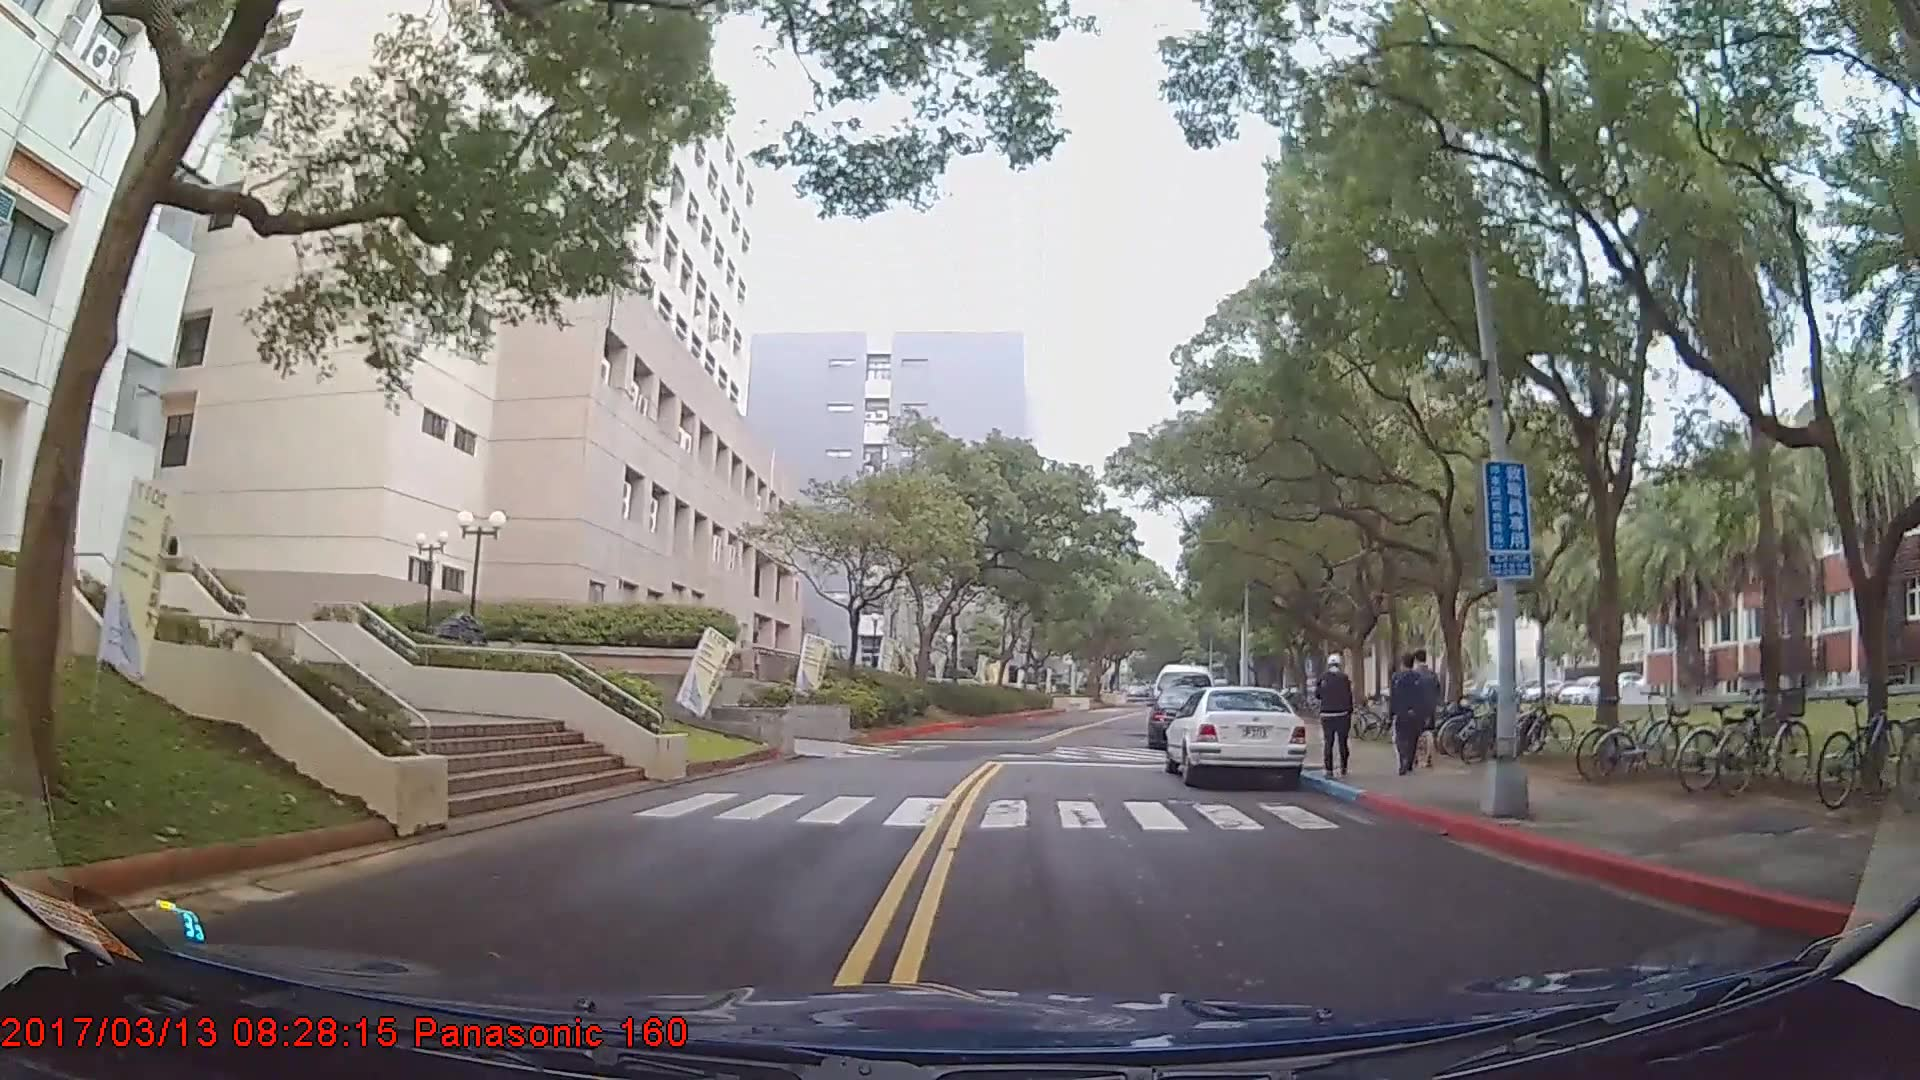pedestrian: (1389, 644, 1436, 777), (1319, 651, 1357, 778)
vehicle: (1160, 685, 1306, 788)
